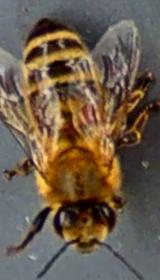varroa_mite: (74, 98, 104, 132)
